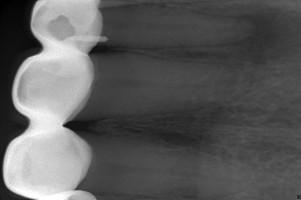Furcation Involvement: (226, 9, 277, 64)
